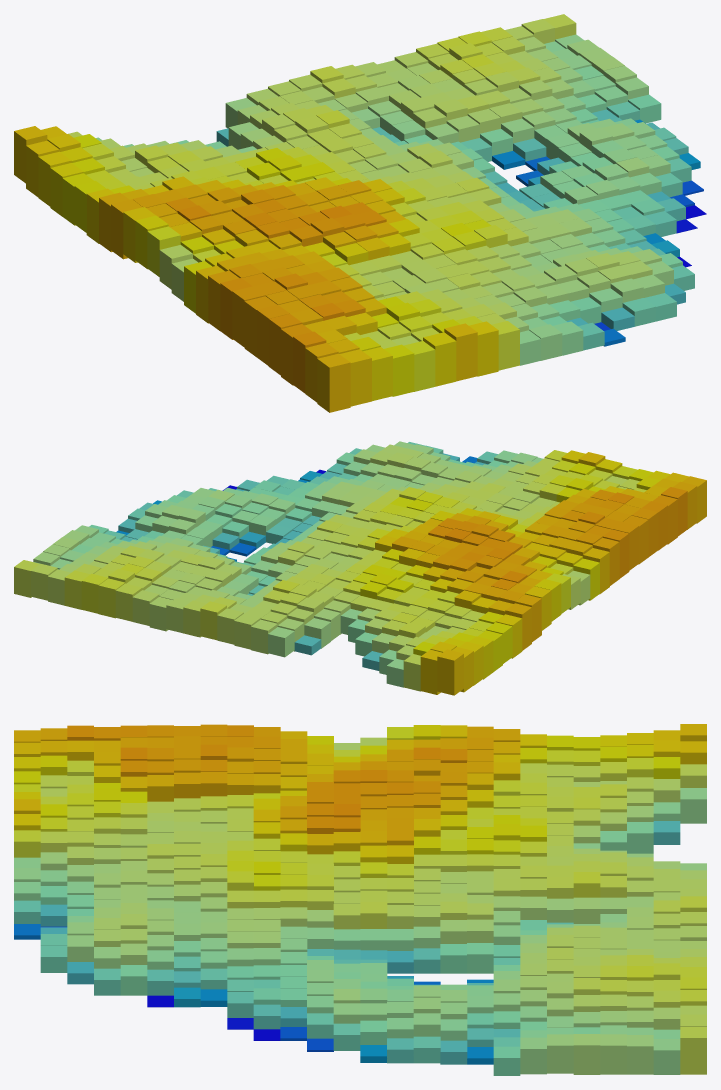
File: population.glb
3 renders of one model, top to bottom at view 1: azimuth 30°, elevation 25°; view 2: azimuth 150°, elevation 25°; view 3: azimuth 270°, elevation 25°, orthographic. The views are drawn at different scales.
Parts seen in each view (by area): view 1: population; view 2: population; view 3: population.
Boxes of the visible parts, x1,y1,x2,y2 form: population: (14,14,706,412); population: (14,441,706,695); population: (14,724,706,1075).
Size of the model in its own units: 2600 by 244 by 2583.
